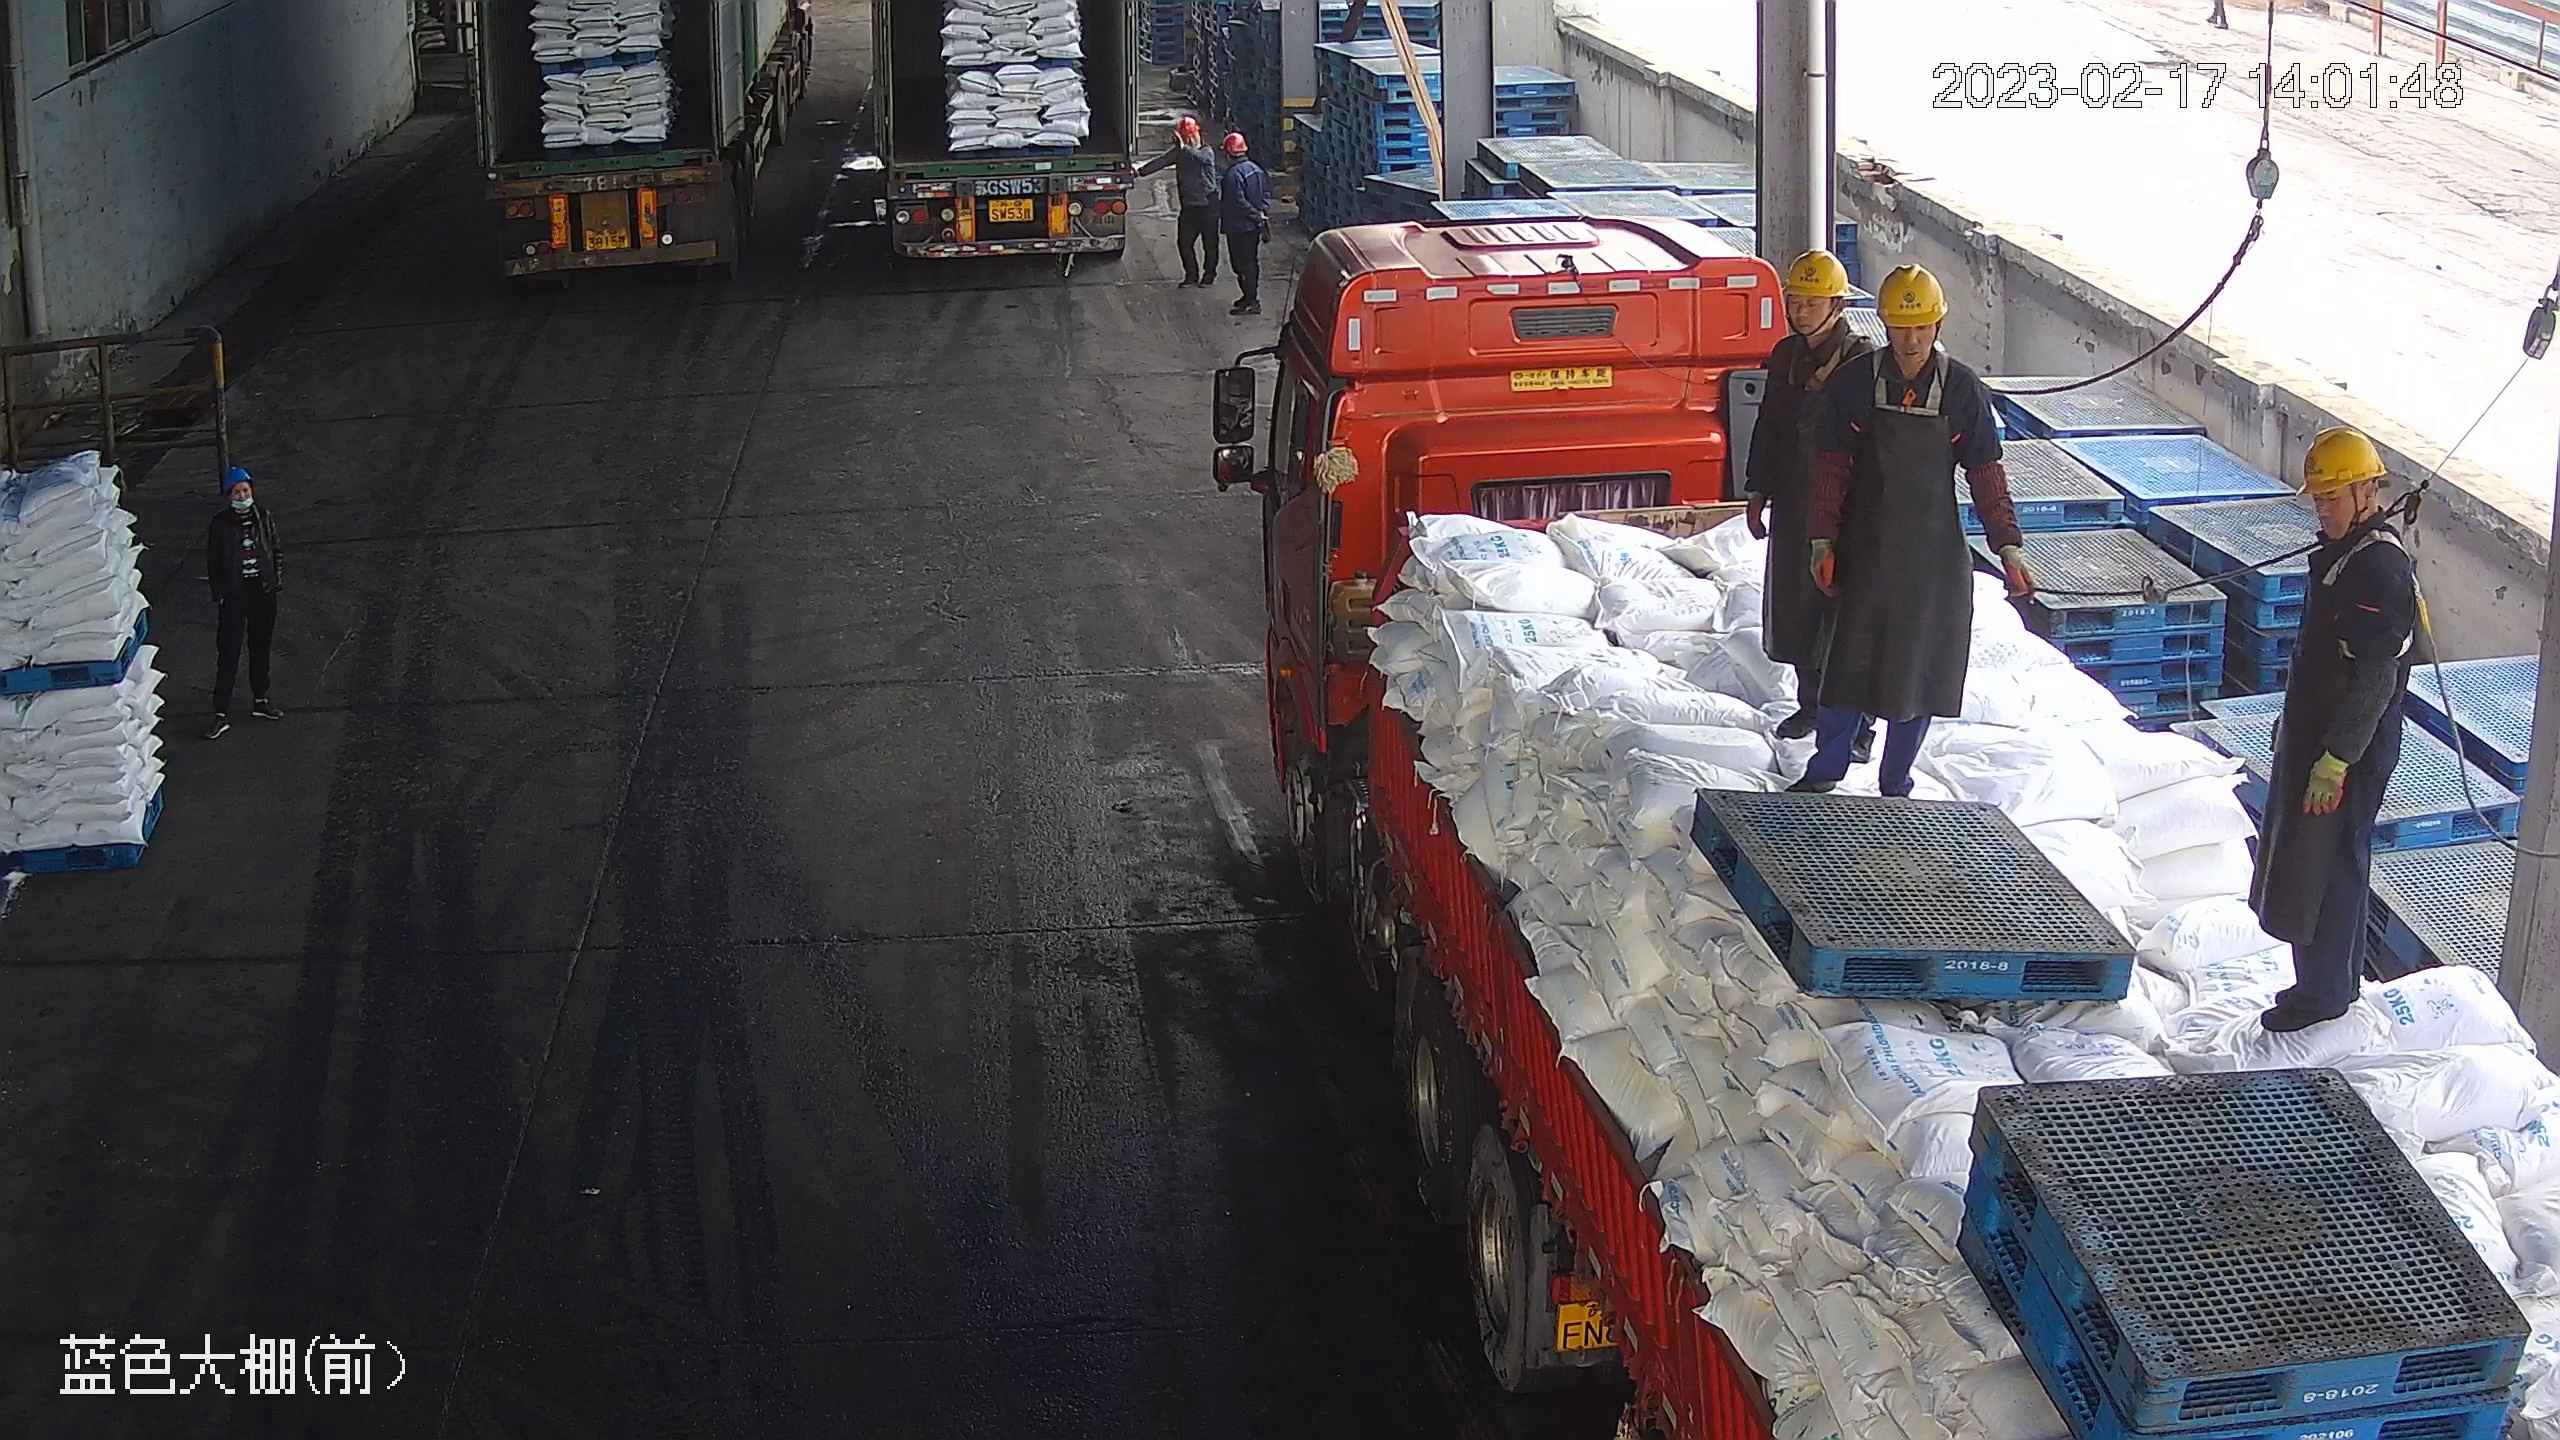belt: (1871, 342, 2010, 426), (2308, 525, 2422, 625), (1782, 331, 1864, 386)
head: (2266, 424, 2424, 609), (1837, 258, 1990, 410), (1762, 245, 1882, 382), (209, 467, 272, 551), (1215, 131, 1265, 189), (1164, 116, 1205, 173)
helmet: (2291, 423, 2395, 493), (1875, 261, 1946, 326), (1779, 246, 1850, 298), (228, 470, 256, 494), (1174, 114, 1202, 135), (1222, 130, 1248, 152)
people: (1767, 254, 2036, 801), (2244, 423, 2428, 1039), (1746, 253, 1886, 754), (206, 462, 281, 731), (1214, 131, 1268, 320), (1156, 115, 1213, 289)
truck: (1206, 212, 2558, 1440), (472, 1, 818, 281), (868, 2, 1142, 259)
